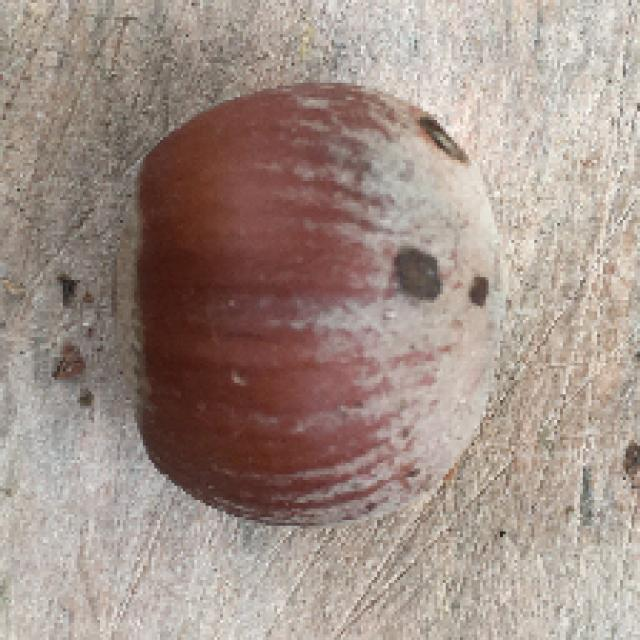damagedHazelnut: (118, 77, 507, 534)
